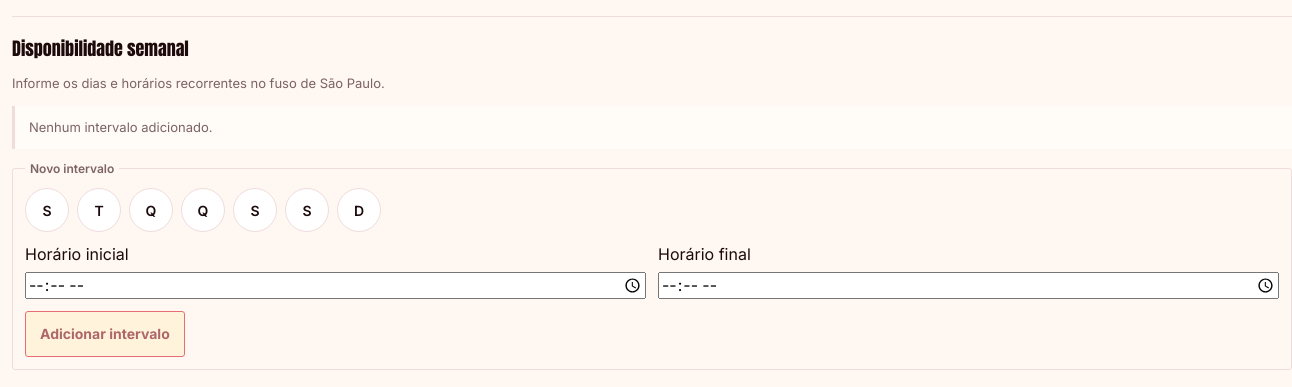
AvailabilityEditor › requires at least one weekday and a valid time range before adding
Expected: the button "Adicionar intervalo" is disabled, [25, 311, 185, 357]
Type "09:00" into the time field labelled "Horário inicial" at (336, 285), box [25, 272, 646, 299]
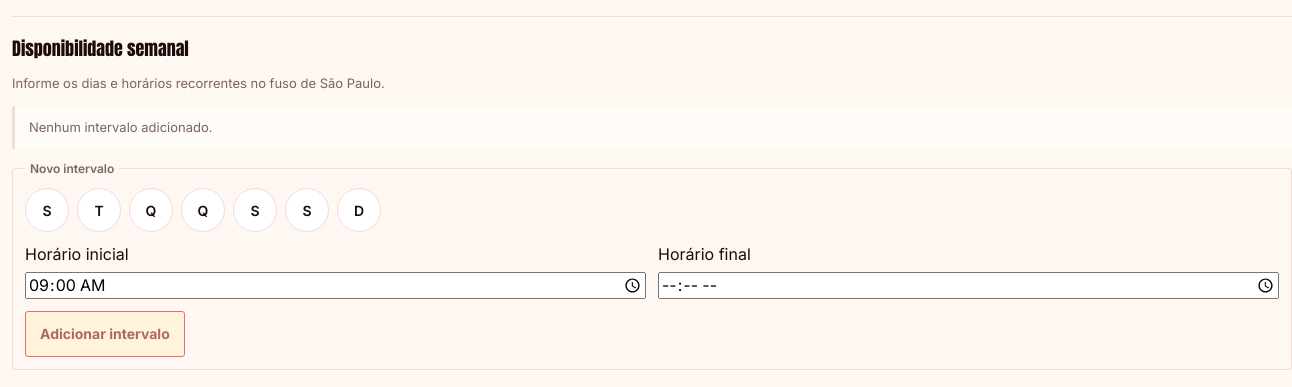
Type "09:00" into the time field labelled "Horário final" at (968, 285), box [658, 272, 1279, 299]
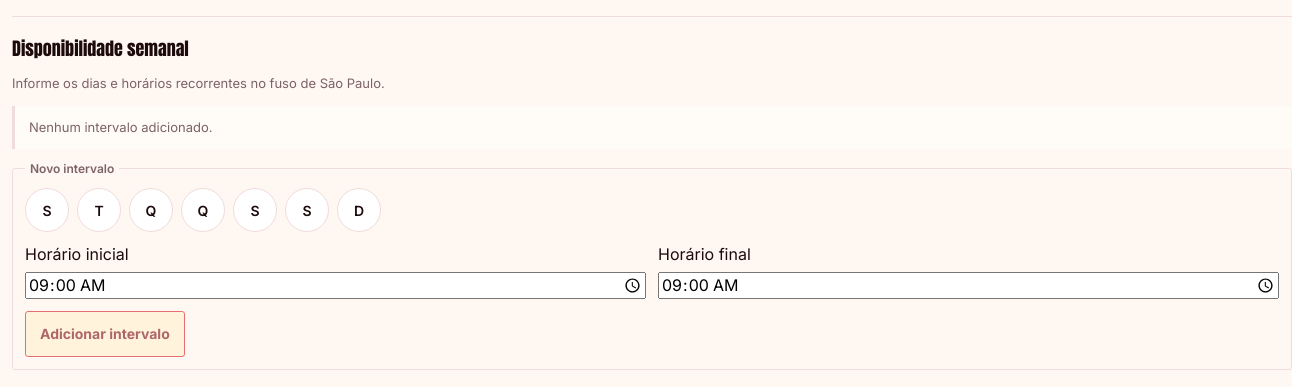
Click the button named "Segunda-feira" at (47, 210), box [25, 188, 69, 232]
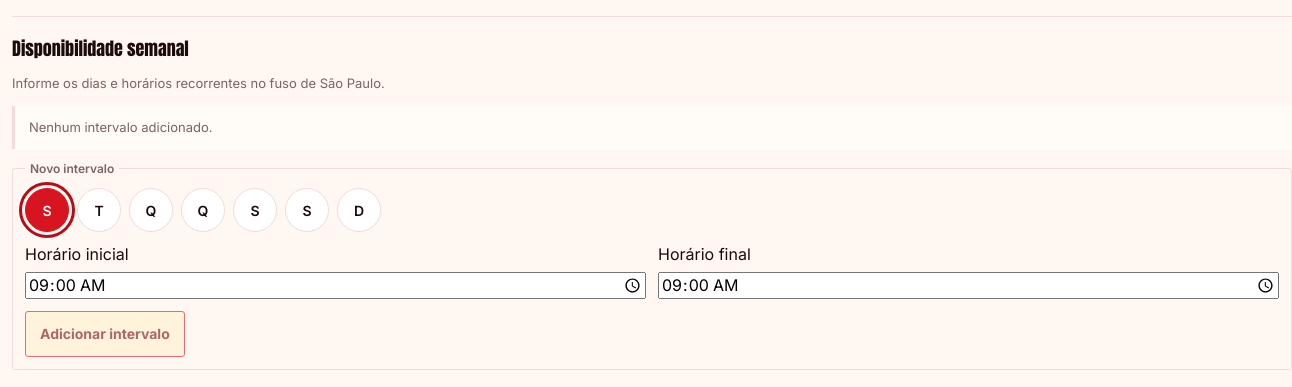
Expected: the button "Adicionar intervalo" is disabled, [25, 311, 185, 357]
Replace the text in the time field labelled "Horário final" with "10:00" at (968, 285), box [658, 272, 1279, 299]
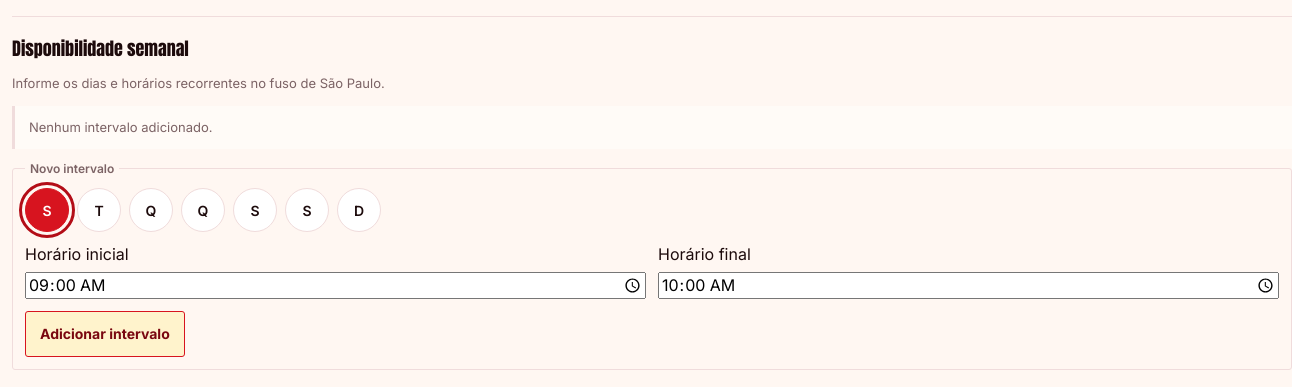
Expected: the button "Adicionar intervalo" is enabled, [25, 311, 185, 357]
